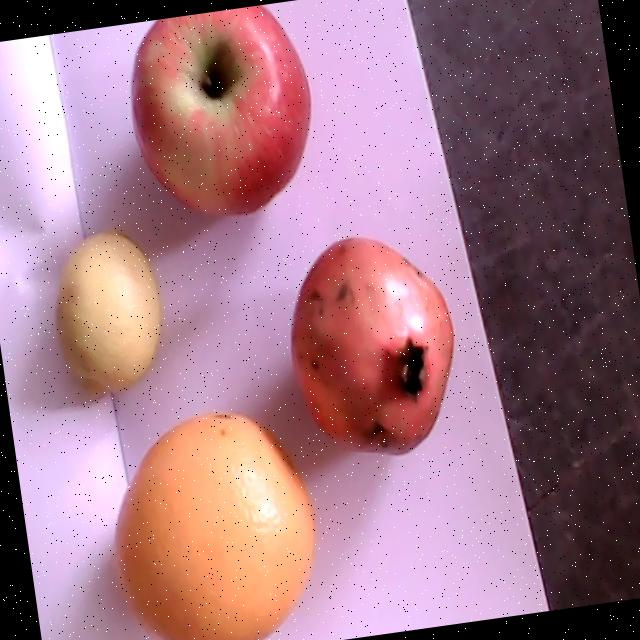apple: (129, 5, 312, 217)
lemon: (56, 232, 160, 396)
orange: (112, 410, 316, 640)
pomegranate: (289, 237, 453, 456)
